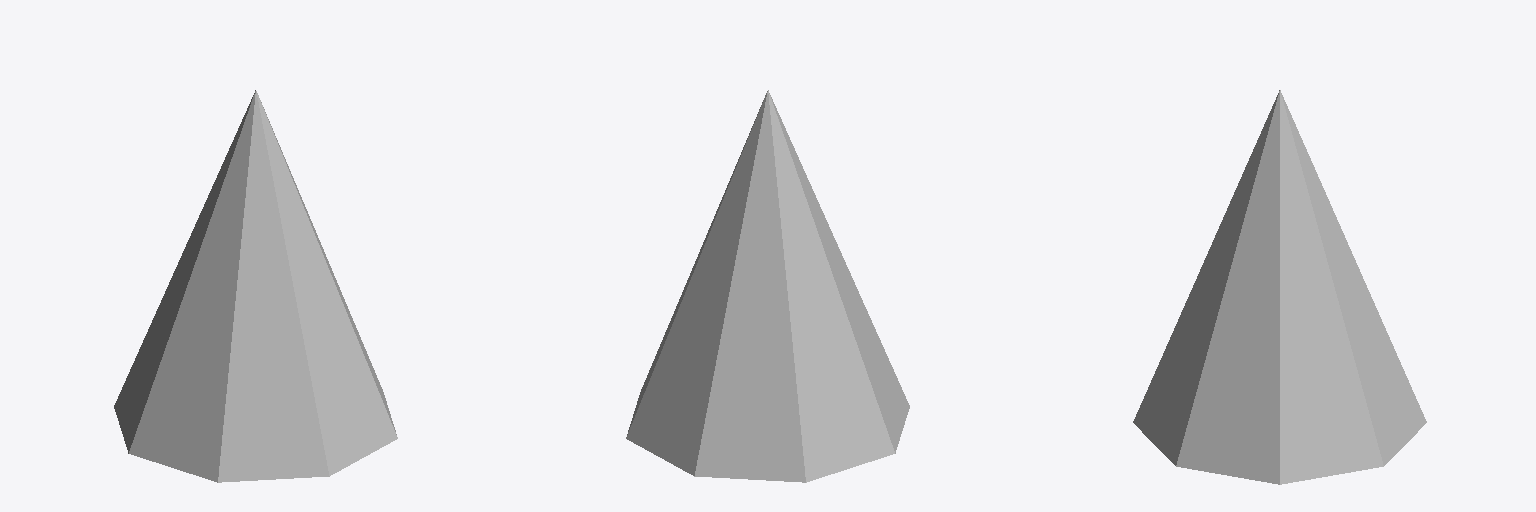
The model's file is 03.Cone8sides.obj.
3 renders of one model, left to right at view 1: azimuth 30°, elevation 25°; view 2: azimuth 150°, elevation 25°; view 3: azimuth 270°, elevation 25°, orthographic.
Visible parts, largest first — view 1: default; view 2: default; view 3: default.
Boxes of the visible parts, x1=… form: default: x1=114, y1=90, x2=397, y2=482; default: x1=626, y1=90, x2=909, y2=482; default: x1=1133, y1=90, x2=1426, y2=484.
Bounding box in the file's own units: 12 × 15 × 12.